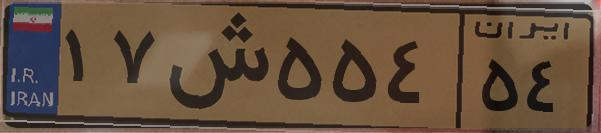1: (57, 26, 110, 100)
4: (385, 28, 445, 110), (525, 38, 570, 115)
5: (270, 28, 330, 110), (330, 28, 385, 110), (475, 38, 525, 113)
7: (110, 28, 158, 98)
ش: (158, 12, 270, 120)
